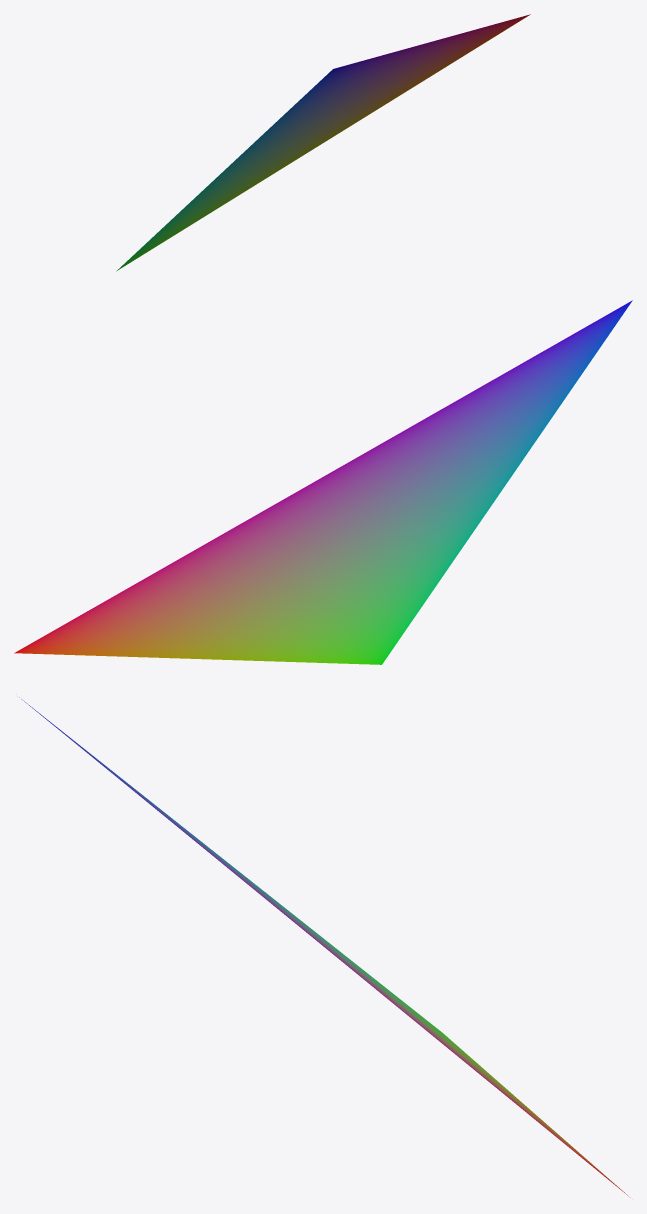
File: face_cleaning_conquest_32.obj
3 renders of one model, top to bottom at view 1: azimuth 30°, elevation 25°; view 2: azimuth 150°, elevation 25°; view 3: azimuth 270°, elevation 25°, orthographic. The views are drawn at different scales.
Bounding box in the file's own units: 0.9272 × 0.618 × 1.16.
